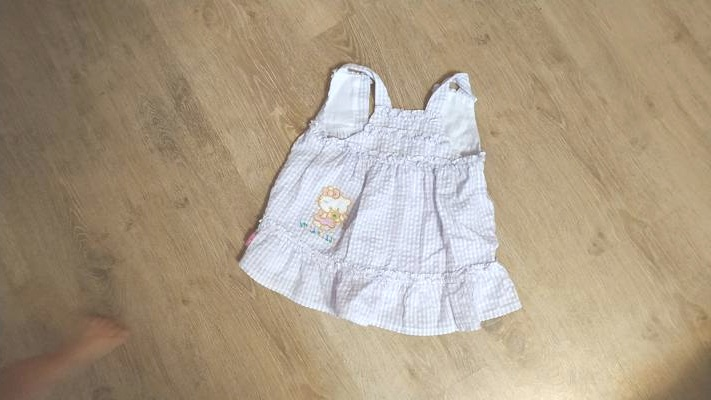Dress: (231, 62, 528, 328)
